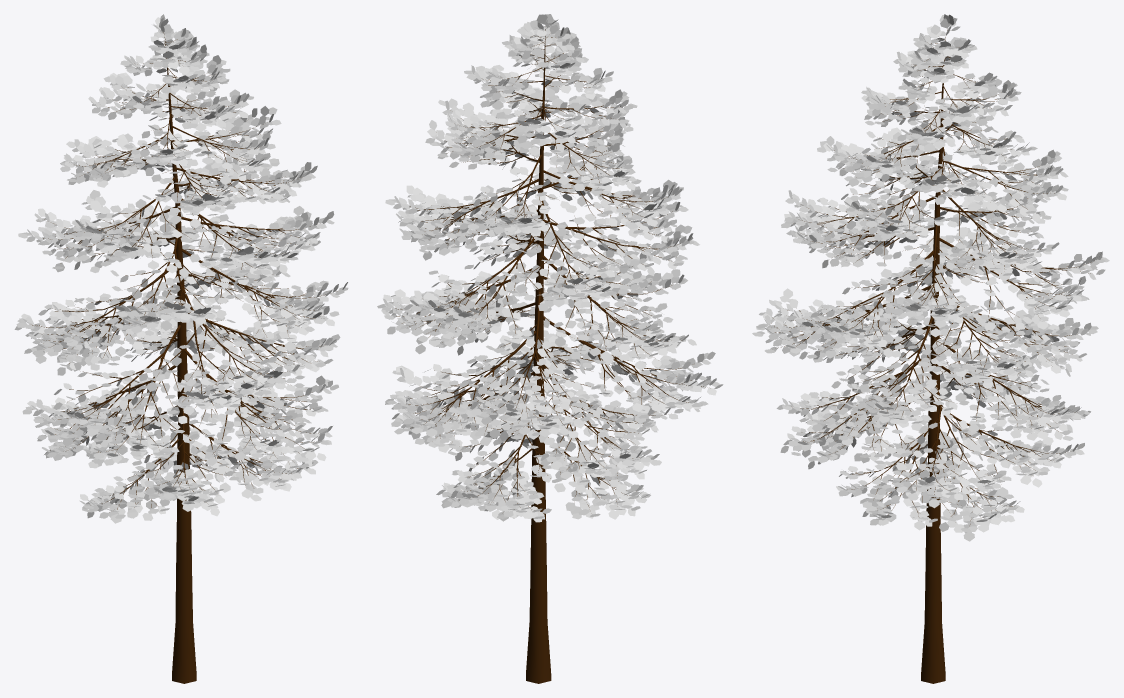
Rendered from Tree.fbx.
3 renders of one model, left to right at view 1: azimuth 30°, elevation 25°; view 2: azimuth 150°, elevation 25°; view 3: azimuth 270°, elevation 25°, orthographic. The views are drawn at different scales.
Parts seen in each view (by area): view 1: tree; view 2: tree; view 3: tree.
Boxes of the visible parts, x1,y1,x2,y2 form: tree: [14, 14, 348, 683]; tree: [377, 14, 723, 683]; tree: [752, 14, 1109, 683].
Size of the model in its own units: 3271 by 3197 by 6615.
